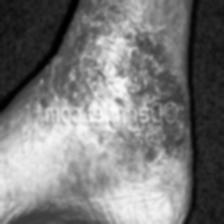Non-Cancerous Skin Condition: (47, 0, 176, 156)
